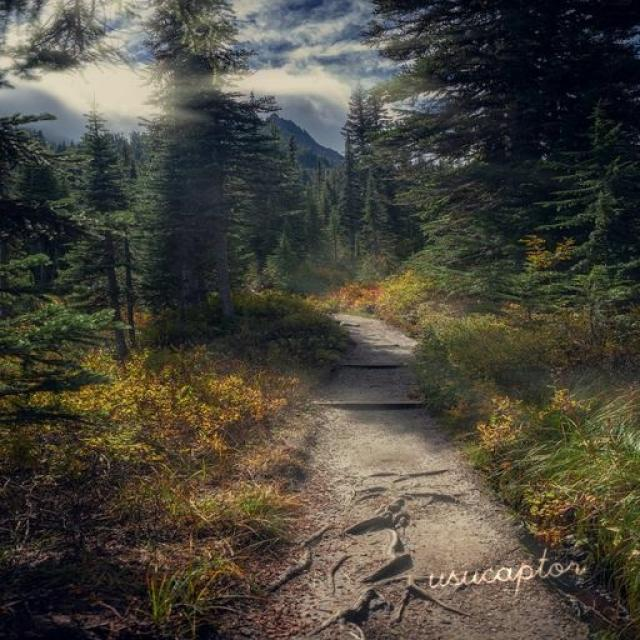watermark: (420, 542, 586, 594)
